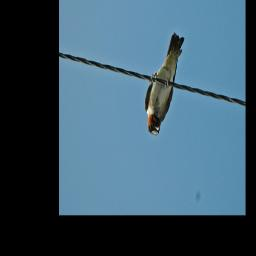Swallow: (144, 32, 186, 137)
